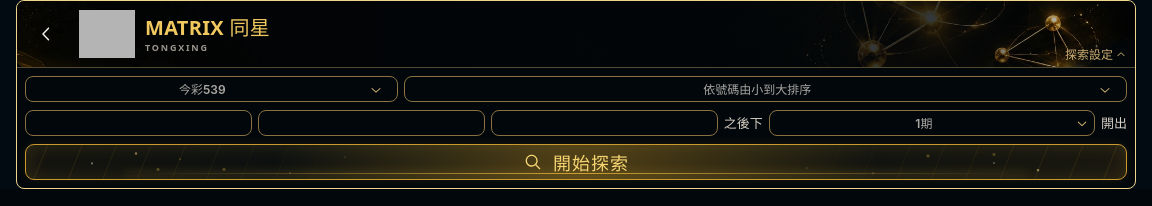
it: data page request failures are not normal empty data › Matrix 同星 API 失敗時顯示 error + retry
The width and height of the screenshot is (1152, 206).
Type "01" into the field named "號碼 1" at {"x": 138, "y": 123}, box [25,110,252,136]
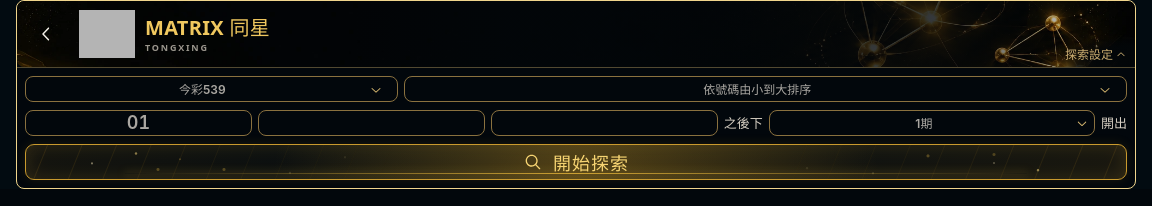
Type "02" into the field named "號碼 2" at {"x": 371, "y": 123}, box [258,110,485,136]
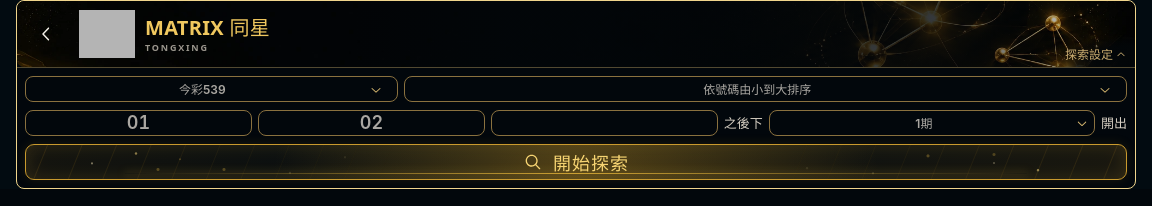
Click the button "開始探索" at {"x": 576, "y": 162}, box [25,144,1127,180]
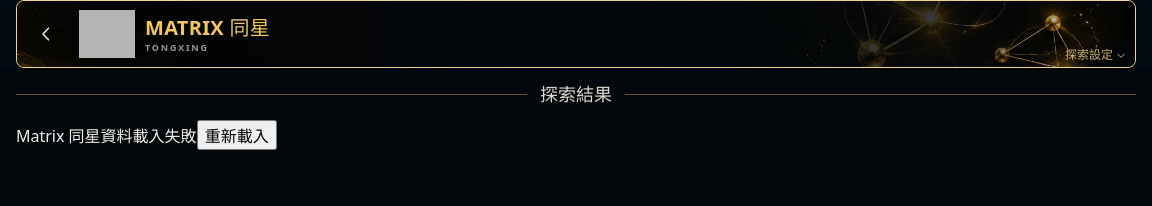
expect the message shows "Matrix 同星資料載入失敗": met, box [16,125,197,147]
expect the button with aria-label "重新載入 Matrix 同星資料" is enabled: met, box [197,120,277,150]
